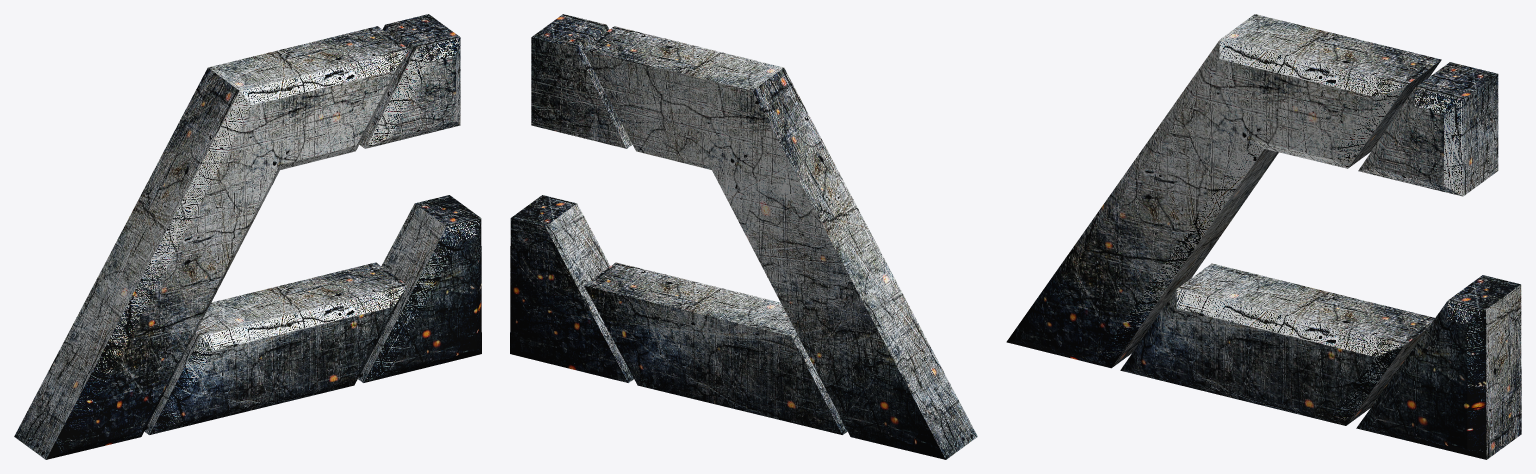
The picture shows the model from 3 angles, left to right: view 1: azimuth 30°, elevation 25°; view 2: azimuth 150°, elevation 25°; view 3: azimuth 330°, elevation 25°; orthographic projection. The views are drawn at different scales.
Visible parts, largest first — view 1: G; view 2: G; view 3: G.
Boxes of the visible parts, bbox=[...] form: G: bbox=[14, 14, 481, 459]; G: bbox=[510, 14, 977, 459]; G: bbox=[1006, 14, 1521, 459].
Size of the model in its own units: 79.1 by 55.95 by 12.
1 material, 1 textured.
